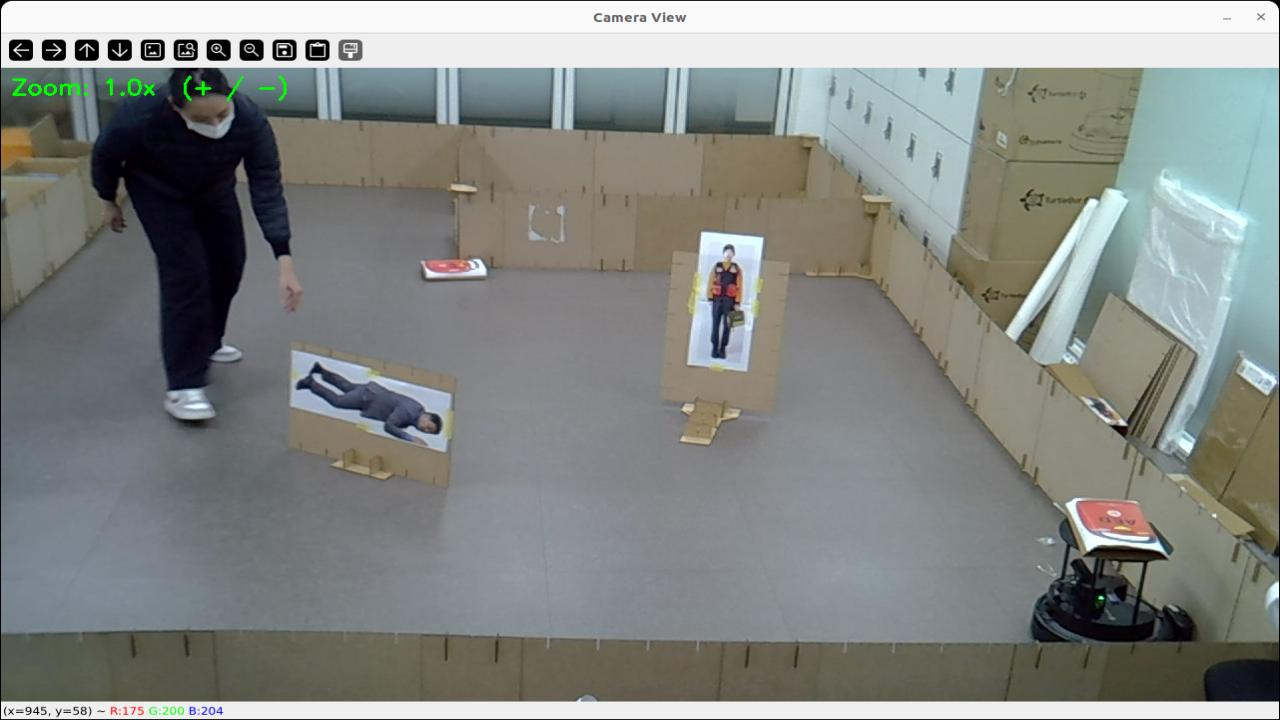AED: (1066, 498, 1168, 561), (422, 258, 487, 281)
Patient: (298, 363, 439, 444)
Responder: (707, 245, 743, 358)
Robot: (1028, 518, 1195, 642)
